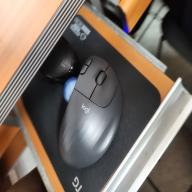mouse: (56, 54, 125, 172)
